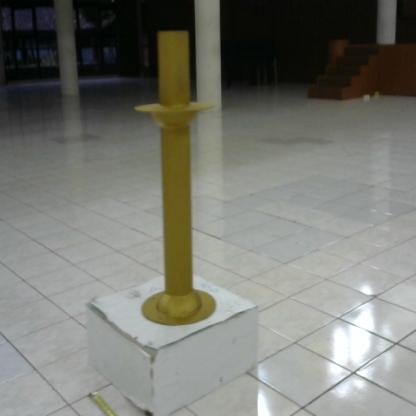pole: (130, 22, 229, 334)
